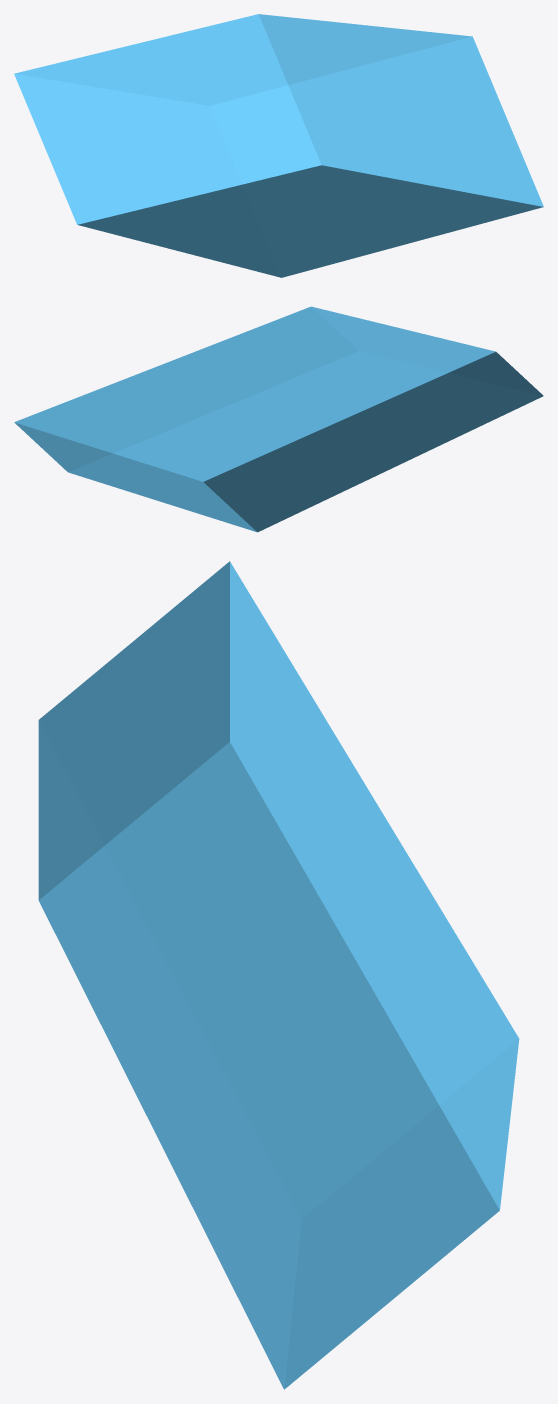
The model's file is Event_420094457_HBrechit_30.fbx.
The picture shows the model from 3 angles, top to bottom: view 1: azimuth 30°, elevation 25°; view 2: azimuth 150°, elevation 25°; view 3: azimuth 270°, elevation 25°; orthographic projection. The views are drawn at different scales.
Visible parts, largest first — view 1: Model; view 2: Model; view 3: Model.
Boxes of the visible parts, bbox=[...] form: Model: bbox=[14, 14, 543, 277]; Model: bbox=[14, 306, 543, 532]; Model: bbox=[38, 561, 519, 1389].
Size of the model in its own units: 1.48 by 0.757 by 0.7444.
